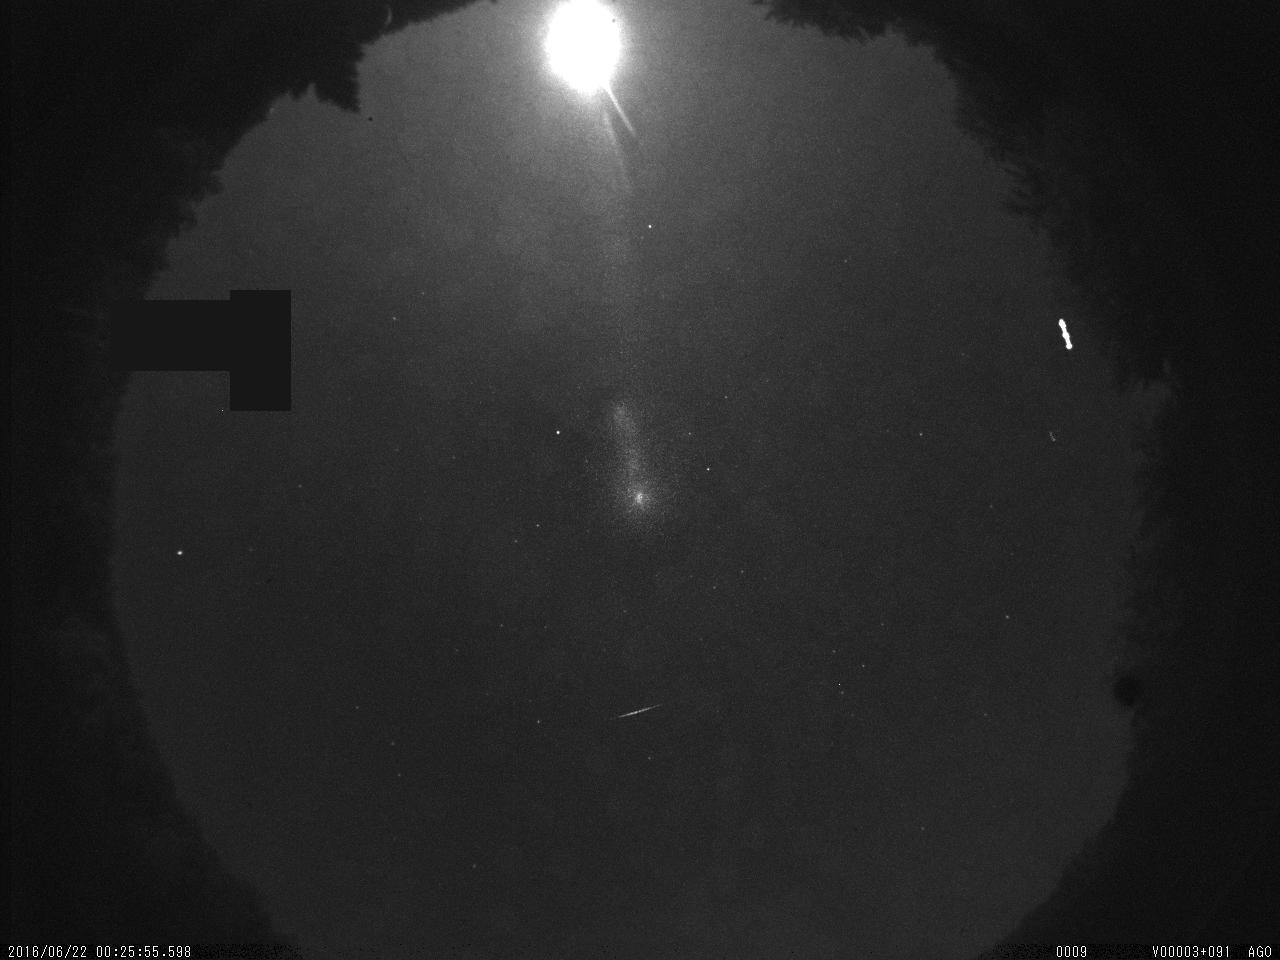Meteor: (613, 693, 672, 724)
